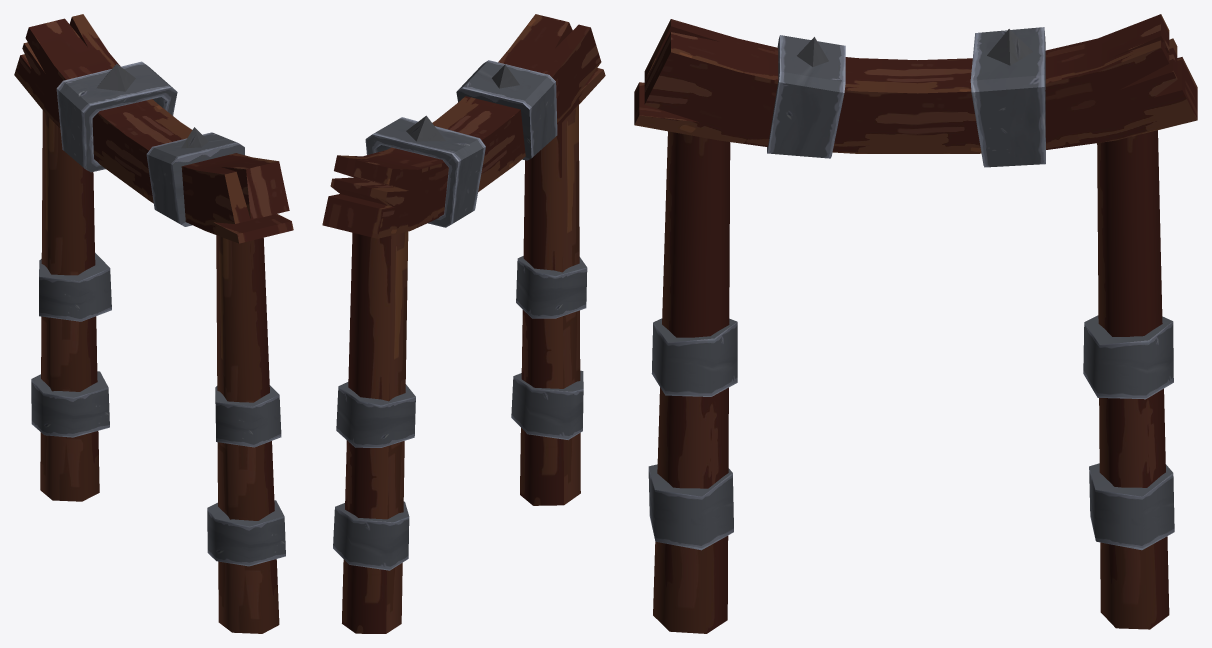
Rendered from SM_PROP_wall_wood_gate_frame_01.glb.
The picture shows the model from 3 angles, left to right: view 1: azimuth 30°, elevation 25°; view 2: azimuth 150°, elevation 25°; view 3: azimuth 270°, elevation 25°; orthographic projection. The views are drawn at different scales.
Parts seen in each view (by area): view 1: SM_PROP_wall_wood_gate_frame_01_EXPORT; view 2: SM_PROP_wall_wood_gate_frame_01_EXPORT; view 3: SM_PROP_wall_wood_gate_frame_01_EXPORT.
Part boxes in pixels (x1=…): SM_PROP_wall_wood_gate_frame_01_EXPORT: x1=14, y1=14, x2=293, y2=633; SM_PROP_wall_wood_gate_frame_01_EXPORT: x1=322, y1=14, x2=605, y2=633; SM_PROP_wall_wood_gate_frame_01_EXPORT: x1=634, y1=14, x2=1197, y2=633.
Size of the model in its own units: 1.53 by 7.47 by 6.48.
3 materials, 3 textured.
